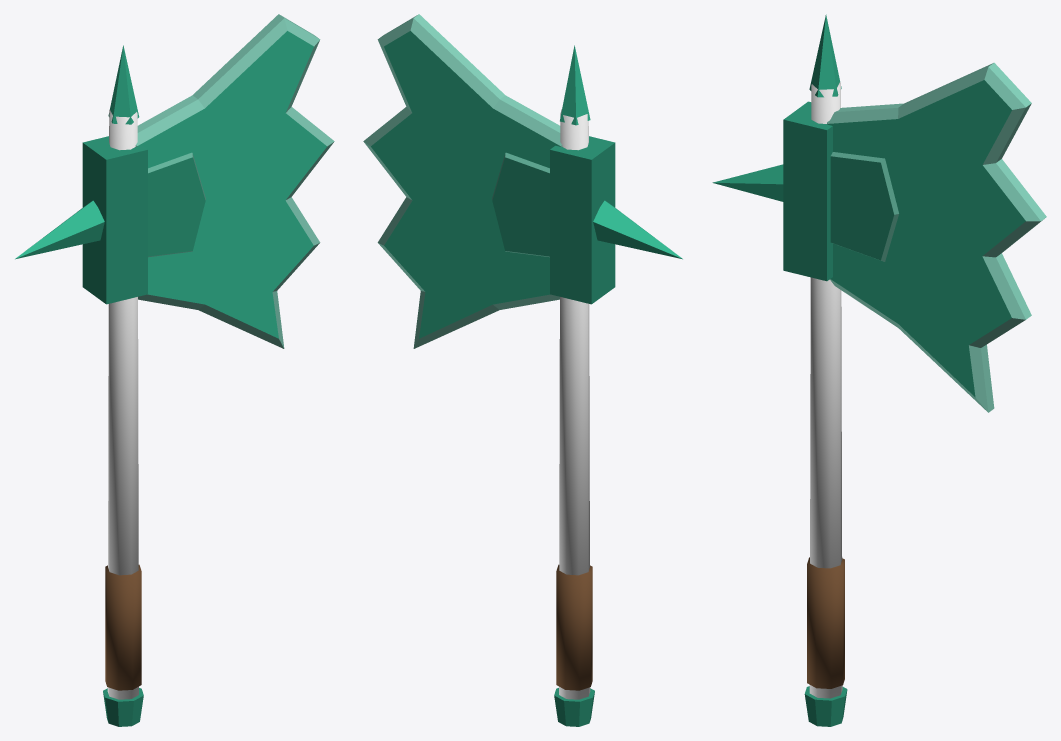
File: mythril_axe.glb
3 views of the same model, side by side, from view 1: azimuth 30°, elevation 25°; view 2: azimuth 150°, elevation 25°; view 3: azimuth 330°, elevation 25° (orthographic). The views are drawn at different scales.
Parts seen in each view (by area): view 1: mythril_axe_v0; view 2: mythril_axe_v0; view 3: mythril_axe_v0.
Boxes of the visible parts, x1,y1,x2,y2 form: mythril_axe_v0: [15, 14, 334, 726]; mythril_axe_v0: [363, 14, 682, 726]; mythril_axe_v0: [712, 14, 1046, 726].
Bounding box in the file's own units: 0.4948 × 1 × 0.064.
